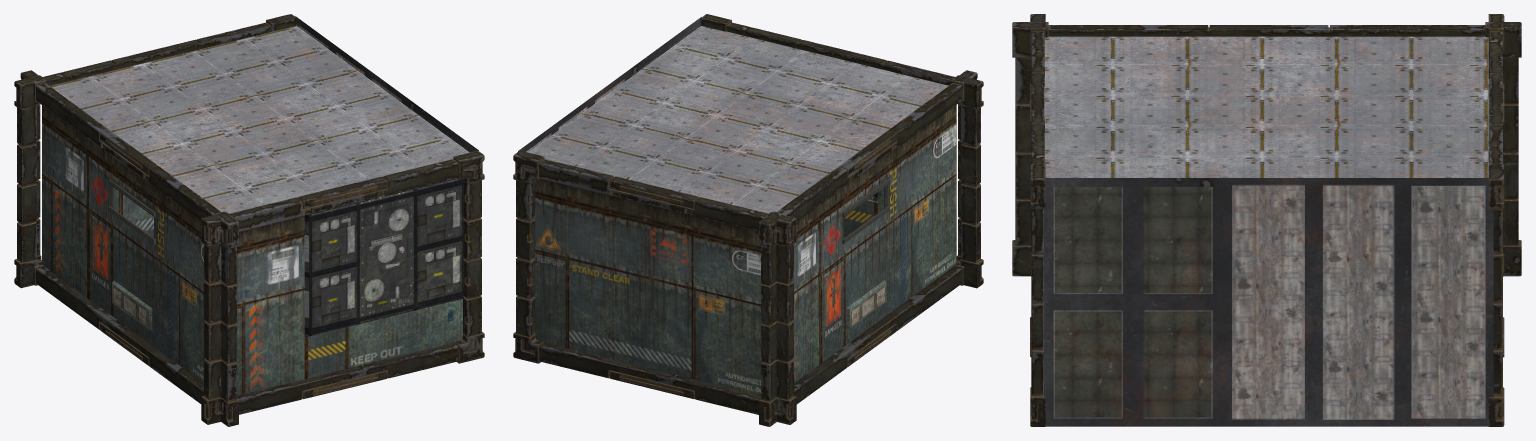
Rendered from SM_Smaller_Window_Shipping_Container_Unit.fbx.
The picture shows the model from 3 angles, left to right: view 1: azimuth 30°, elevation 25°; view 2: azimuth 150°, elevation 25°; view 3: azimuth 270°, elevation 25°; orthographic projection. The views are drawn at different scales.
Parts seen in each view (by area): view 1: SM_Smaller_Window_Shipping_Container_Unit_LOD0; view 2: SM_Smaller_Window_Shipping_Container_Unit_LOD0; view 3: SM_Smaller_Window_Shipping_Container_Unit_LOD0.
Part boxes in pixels (x1=…): SM_Smaller_Window_Shipping_Container_Unit_LOD0: x1=14, y1=14, x2=484, y2=426; SM_Smaller_Window_Shipping_Container_Unit_LOD0: x1=513, y1=14, x2=983, y2=426; SM_Smaller_Window_Shipping_Container_Unit_LOD0: x1=1012, y1=14, x2=1521, y2=426.
Size of the model in its own units: 418 by 543 by 293.
4 materials, 4 textured.
